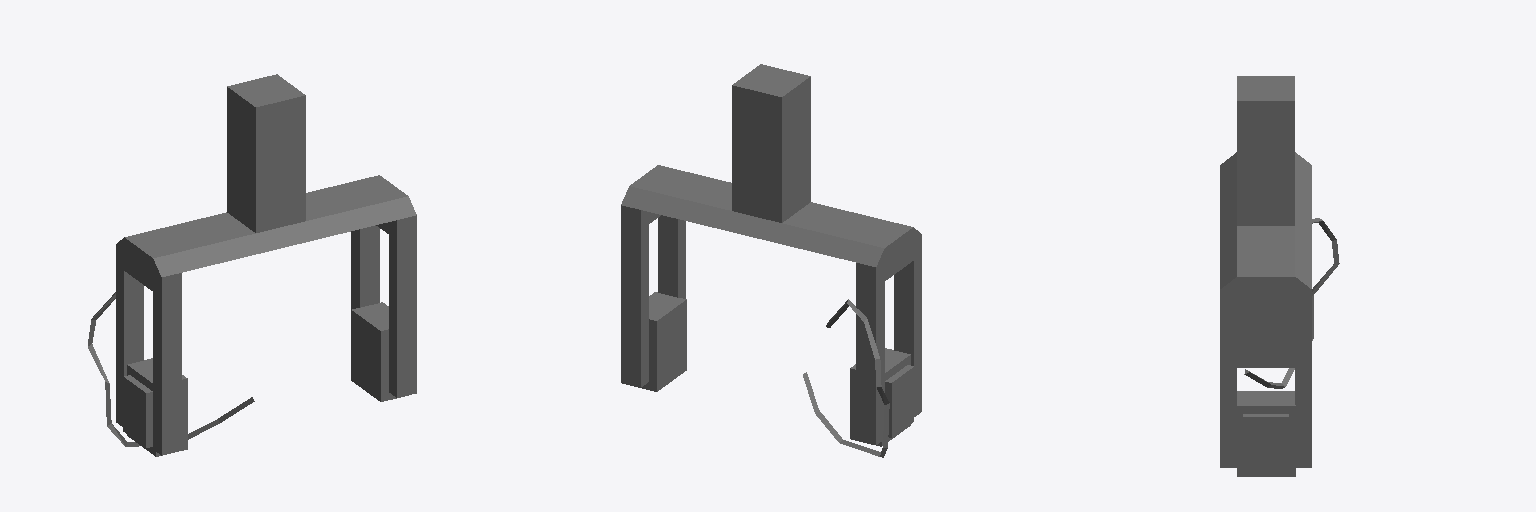
Rendered from Drone_Holder.obj.
The picture shows the model from 3 angles: view 1: azimuth 30°, elevation 25°; view 2: azimuth 150°, elevation 25°; view 3: azimuth 270°, elevation 25°; orthographic projection.
Parts seen in each view (by area): view 1: pCube59; view 2: pCube59; view 3: pCube59.
Boxes of the visible parts, x1=… form: pCube59: x1=88, y1=74, x2=416, y2=456; pCube59: x1=621, y1=64, x2=921, y2=457; pCube59: x1=1220, y1=76, x2=1339, y2=476.
Bounding box in the file's own units: 2.39 × 2.75 × 0.8756.